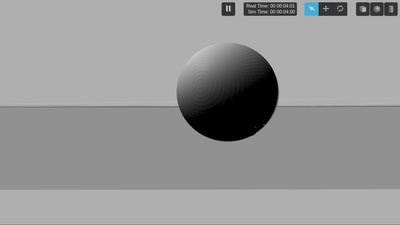mira_robot: (176, 44, 280, 142)
